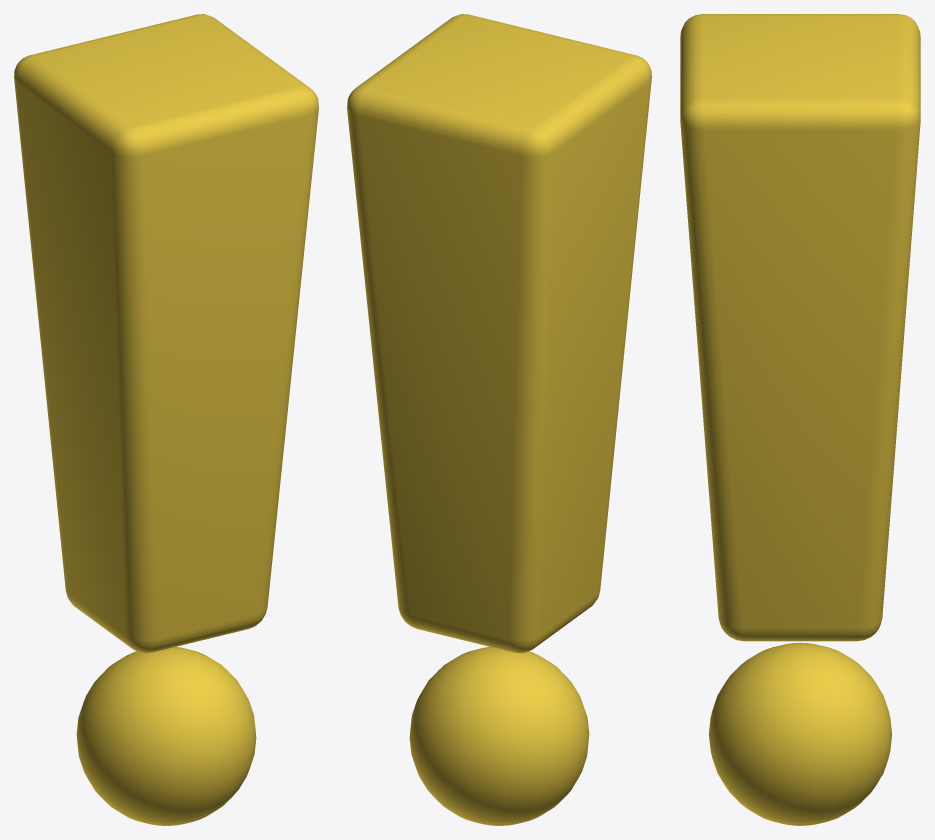
Rendered from 驚嘆號.fbx.
3 views of the same model, side by side, from view 1: azimuth 30°, elevation 25°; view 2: azimuth 150°, elevation 25°; view 3: azimuth 270°, elevation 25° (orthographic).
Parts seen in each view (by area): view 1: 驚嘆號; view 2: 驚嘆號; view 3: 驚嘆號.
Boxes of the visible parts, <box> form: 驚嘆號: <box>14,14,318,825</box>; 驚嘆號: <box>347,14,651,825</box>; 驚嘆號: <box>680,14,920,825</box>.
Bounding box in the file's own units: 59.74 × 208 × 59.74.
